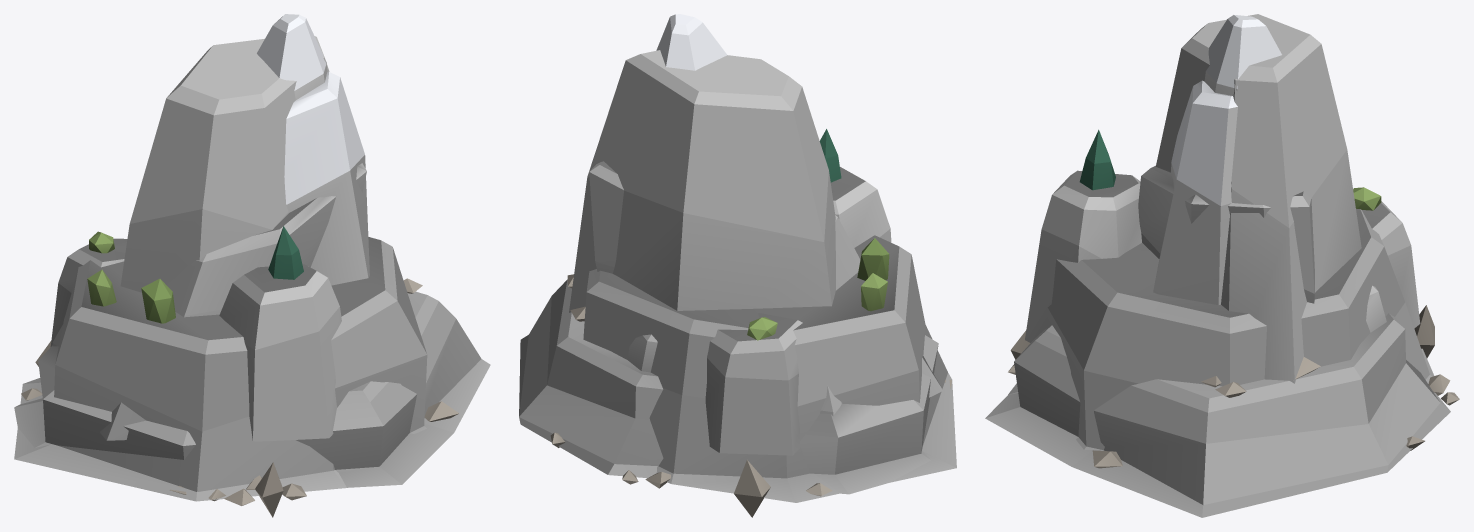
The model's file is crag-2.glb.
The picture shows the model from 3 angles, left to right: view 1: azimuth 30°, elevation 25°; view 2: azimuth 150°, elevation 25°; view 3: azimuth 270°, elevation 25°; orthographic projection. The views are drawn at different scales.
Parts seen in each view (by area): view 1: SaddleBase, SaddleBlock, CragBase, CragSpur, CragPeak, CragWedge, CragHorn, CragLedge, CragPine1, SaddleShrub1, CragStepA, SaddleScree3 (+1 smaller); view 2: SaddleBlock, SaddleBase, CragBase, CragLedge, CragWedge, CragSpur, CragHorn, CragStepA, SaddleScree4, SaddleShrub1, SaddleShrub2, CragPine1 (+1 smaller); view 3: CragBase, SaddleBlock, SaddleBase, CragPeak, CragSpur, CragWedge, CragHorn, CragLedge, CragPine1, SaddleScree4, CragStepA.
Part boxes in pixels (box(x1,y1,x2,y2)): SaddleBase: box(14, 237, 427, 501); SaddleBlock: box(120, 36, 329, 292); CragBase: box(14, 291, 490, 487); CragSpur: box(219, 264, 341, 441); CragPeak: box(284, 71, 369, 285); CragWedge: box(166, 163, 366, 317); CragHorn: box(257, 14, 327, 99); CragLedge: box(50, 238, 127, 346); CragPine1: box(268, 226, 303, 279); SaddleShrub1: box(141, 278, 175, 323); CragStepA: box(52, 321, 145, 440); SaddleScree3: box(255, 462, 283, 517); SaddleBlock: box(569, 50, 835, 312); SaddleBase: box(583, 235, 956, 502); CragBase: box(519, 279, 938, 494); CragLedge: box(705, 313, 802, 455); CragWedge: box(589, 161, 860, 290); CragSpur: box(830, 167, 891, 247); CragHorn: box(656, 14, 727, 70); CragStepA: box(627, 334, 943, 415); SaddleScree4: box(734, 460, 770, 517); SaddleShrub1: box(857, 238, 889, 280); SaddleShrub2: box(861, 273, 887, 311); CragPine1: box(819, 129, 841, 182); CragBase: box(985, 313, 1450, 517); SaddleBlock: box(1156, 14, 1361, 383); SaddleBase: box(1008, 209, 1434, 450); CragPeak: box(1153, 80, 1237, 305); CragSpur: box(1025, 170, 1141, 342); CragWedge: box(1138, 165, 1314, 303); CragHorn: box(1204, 15, 1281, 96); CragLedge: box(1362, 201, 1420, 328); CragPine1: box(1079, 129, 1115, 190); SaddleScree4: box(1414, 305, 1434, 358); CragStepA: box(1366, 285, 1386, 332).
Bounding box in the file's own units: 2.06 × 1.73 × 1.73.
